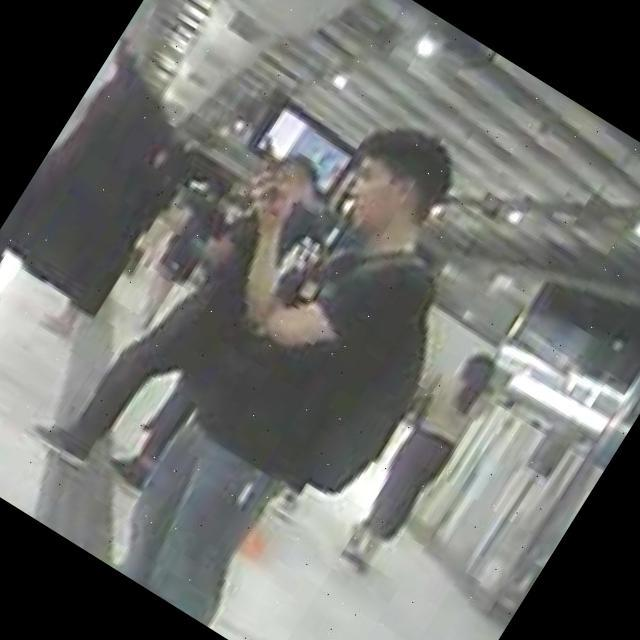person: (37, 67, 512, 640), (26, 109, 344, 502), (326, 338, 514, 586), (118, 170, 242, 329)
